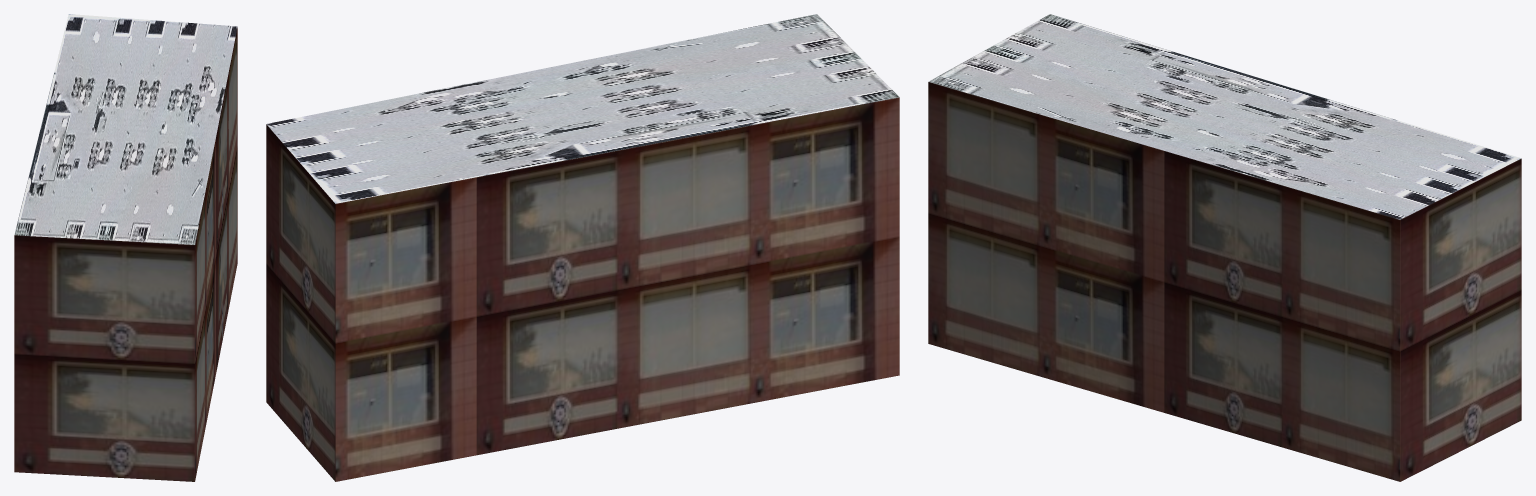
File: ResTex__2148.fbx
3 views of the same model, side by side, from view 1: azimuth 30°, elevation 25°; view 2: azimuth 150°, elevation 25°; view 3: azimuth 270°, elevation 25° (orthographic). The views are drawn at different scales.
Visible parts, largest first — view 1: CityEngineMaterial_13_m, CityEngineMaterial_4_m; view 2: CityEngineMaterial_13_m, CityEngineMaterial_4_m; view 3: CityEngineMaterial_13_m, CityEngineMaterial_4_m.
Part boxes in pixels (box(x1,y1,x2,y2)): CityEngineMaterial_13_m: box(14, 27, 237, 481); CityEngineMaterial_4_m: box(14, 14, 237, 244); CityEngineMaterial_13_m: box(266, 97, 899, 481); CityEngineMaterial_4_m: box(266, 14, 899, 203); CityEngineMaterial_13_m: box(928, 82, 1521, 481); CityEngineMaterial_4_m: box(928, 14, 1521, 219).
Size of the model in its own units: 10.11 by 6 by 12.32.
Materials: 2 (2 with a texture image).
